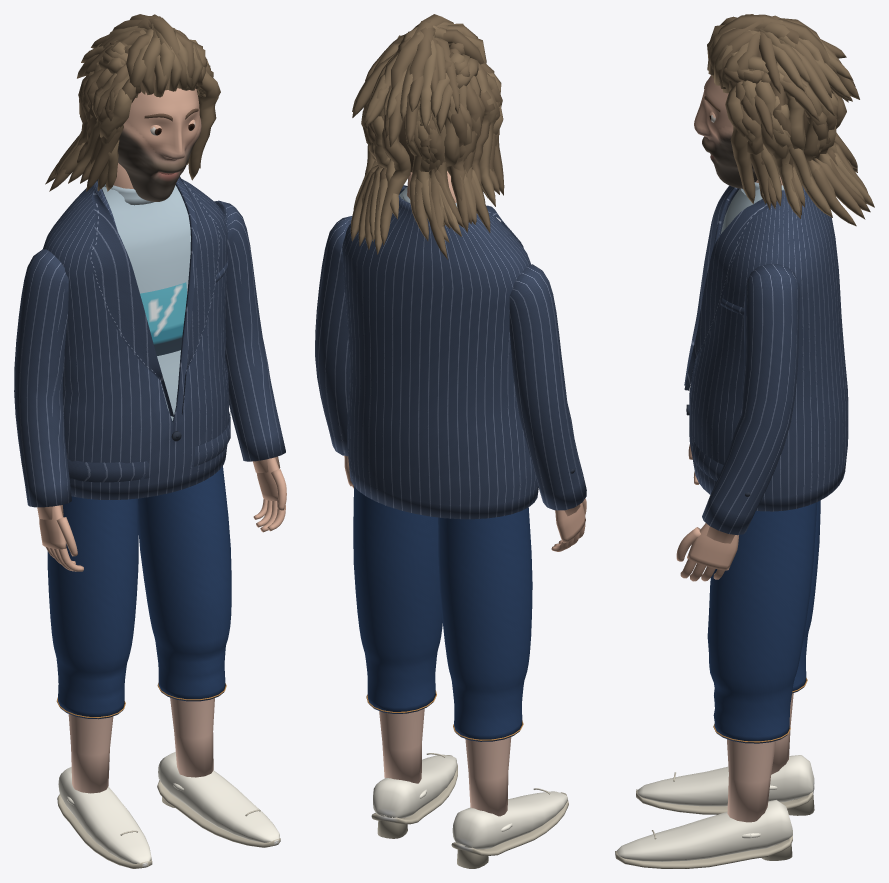
The model's file is daniel-hero.glb.
3 renders of one model, left to right at view 1: azimuth 30°, elevation 25°; view 2: azimuth 150°, elevation 25°; view 3: azimuth 270°, elevation 25°, orthographic. The views are drawn at different scales.
Visible parts, largest first — view 1: Blazer, Trousers, Hair, Shoes, Body, Shirt, Head, Beard; view 2: Blazer, Trousers, Hair, Shoes, Body; view 3: Blazer, Hair, Trousers, Shoes, Body, Beard, Head, Shirt.
Part boxes in pixels (x1,y1,x2,y2): Blazer: (14,176,285,507); Trousers: (47,466,231,719); Hair: (45,14,220,191); Shoes: (57,752,280,868); Body: (37,163,286,793); Shirt: (97,181,190,420); Head: (126,88,199,174); Beard: (118,117,201,201); Blazer: (315,185,586,519); Trousers: (353,486,532,741); Hair: (350,14,504,259); Shoes: (371,753,568,868); Body: (344,171,586,816); Blazer: (684,185,848,535); Hair: (707,14,874,226); Trousers: (707,500,820,743); Shoes: (615,755,814,868); Body: (676,175,793,822); Beard: (700,124,757,188); Head: (694,75,732,137); Shirt: (720,182,784,234).
Size of the model in its own units: 0.5612 by 1.72 by 0.4904.
6 materials, 2 textured.
